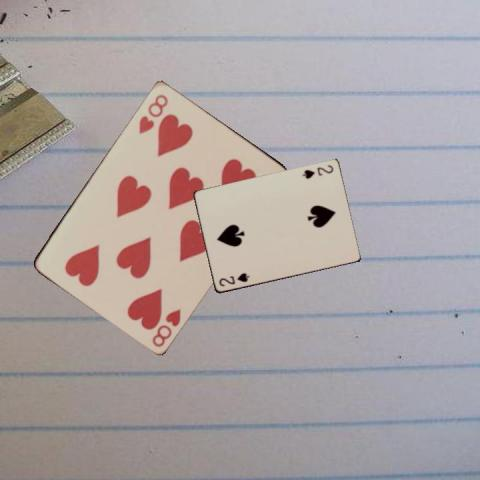2s: (299, 162, 335, 181), (216, 270, 251, 288)
8h: (148, 305, 182, 349), (136, 90, 169, 135)
